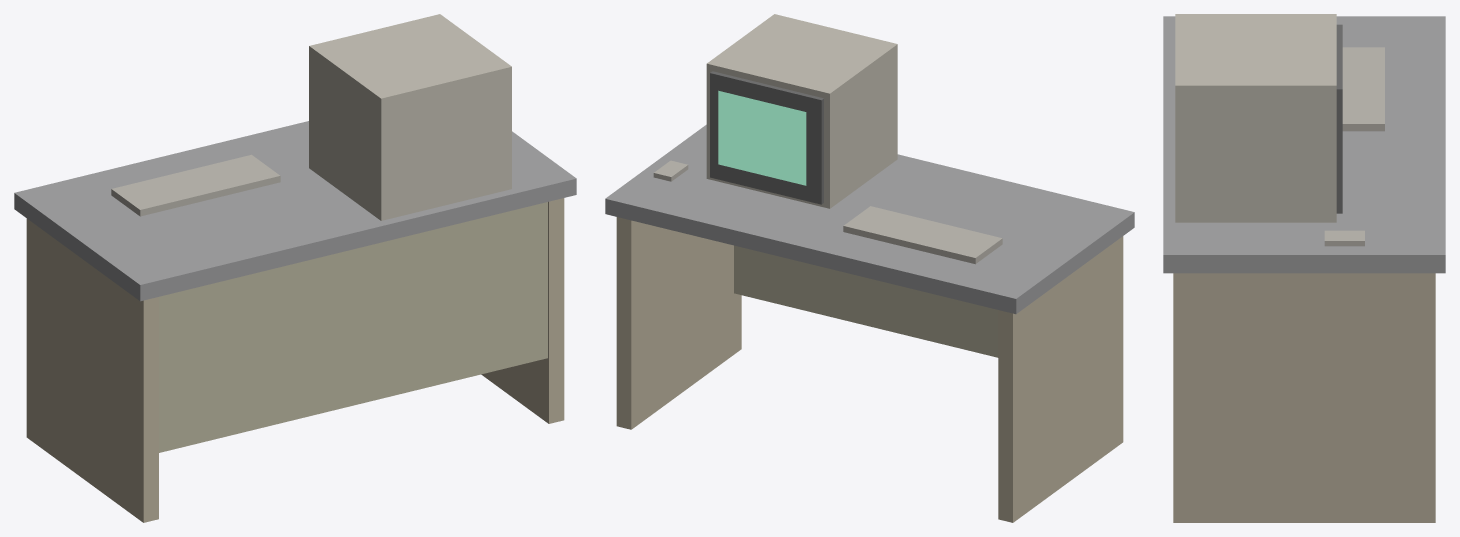
Rendered from desk_office.glb.
The picture shows the model from 3 angles, left to right: view 1: azimuth 30°, elevation 25°; view 2: azimuth 150°, elevation 25°; view 3: azimuth 270°, elevation 25°; orthographic projection. The views are drawn at different scales.
Parts seen in each view (by area): view 1: Desk; view 2: Desk, Screen; view 3: Desk.
Part boxes in pixels (left/top/right/bottom): Desk: left=14, top=14, right=576, bottom=522; Desk: left=605, top=14, right=1134, bottom=522; Screen: left=718, top=90, right=806, bottom=185; Desk: left=1163, top=14, right=1445, bottom=522.
Bounding box in the file's own units: 1.4 × 1.12 × 0.7.
